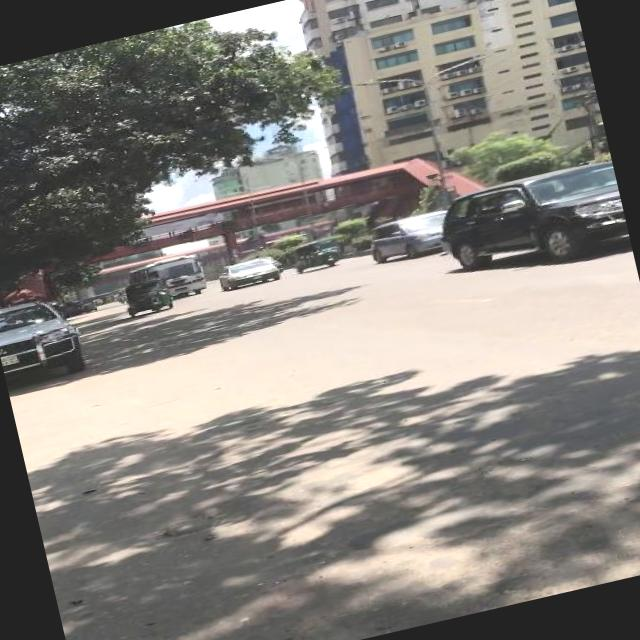bus: (127, 249, 209, 307)
car: (216, 253, 282, 292)
motorcycle: (122, 273, 176, 318), (290, 234, 345, 274)
truck: (428, 155, 630, 287), (0, 274, 89, 389), (366, 205, 460, 265)
